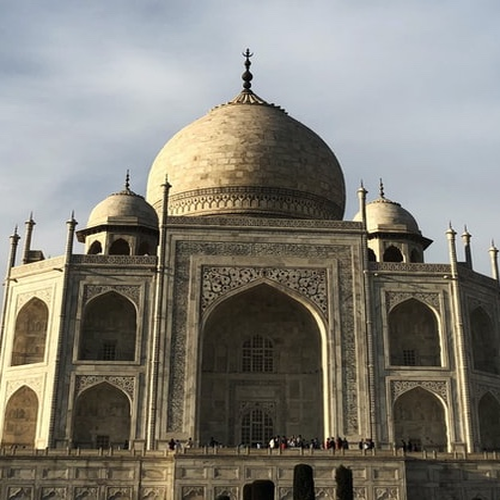Mosque: (5, 45, 488, 484)
